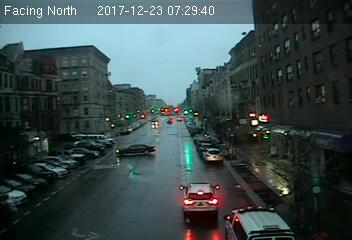car: (177, 181, 221, 218), (202, 148, 224, 163)
police: (224, 205, 297, 240)
